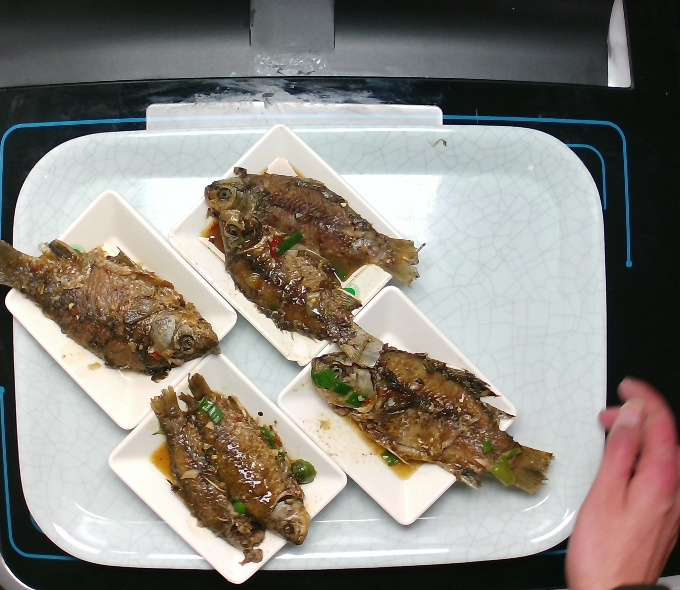wcq-JiYu: (190, 156, 435, 369), (307, 337, 562, 503), (1, 200, 226, 379), (135, 371, 313, 564)
